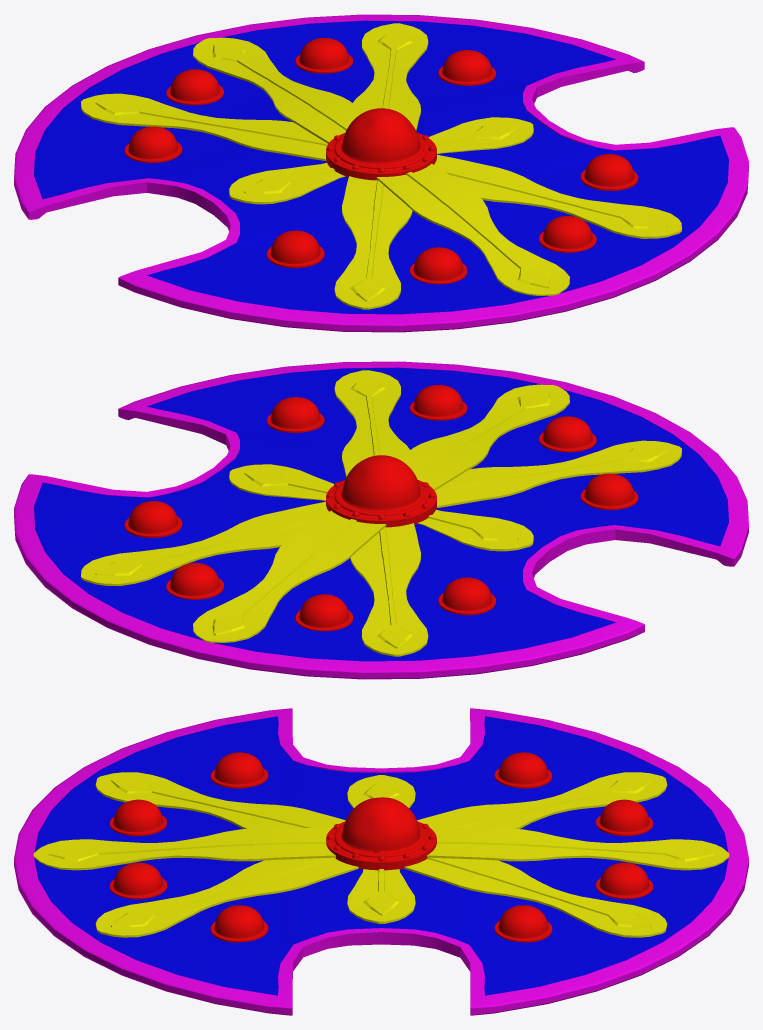
The model's file is Greek_Shield_ColourID_2.fbx.
3 renders of one model, top to bottom at view 1: azimuth 30°, elevation 25°; view 2: azimuth 150°, elevation 25°; view 3: azimuth 270°, elevation 25°, orthographic.
Visible parts, largest first — view 1: Greek_Shield_Color_ID_2; view 2: Greek_Shield_Color_ID_2; view 3: Greek_Shield_Color_ID_2.
Boxes of the visible parts, x1,y1,x2,y2 form: Greek_Shield_Color_ID_2: (14,14,748,332); Greek_Shield_Color_ID_2: (14,361,748,679); Greek_Shield_Color_ID_2: (14,708,748,1015).
Bounding box in the file's own units: 93.87 × 18.81 × 97.1.
